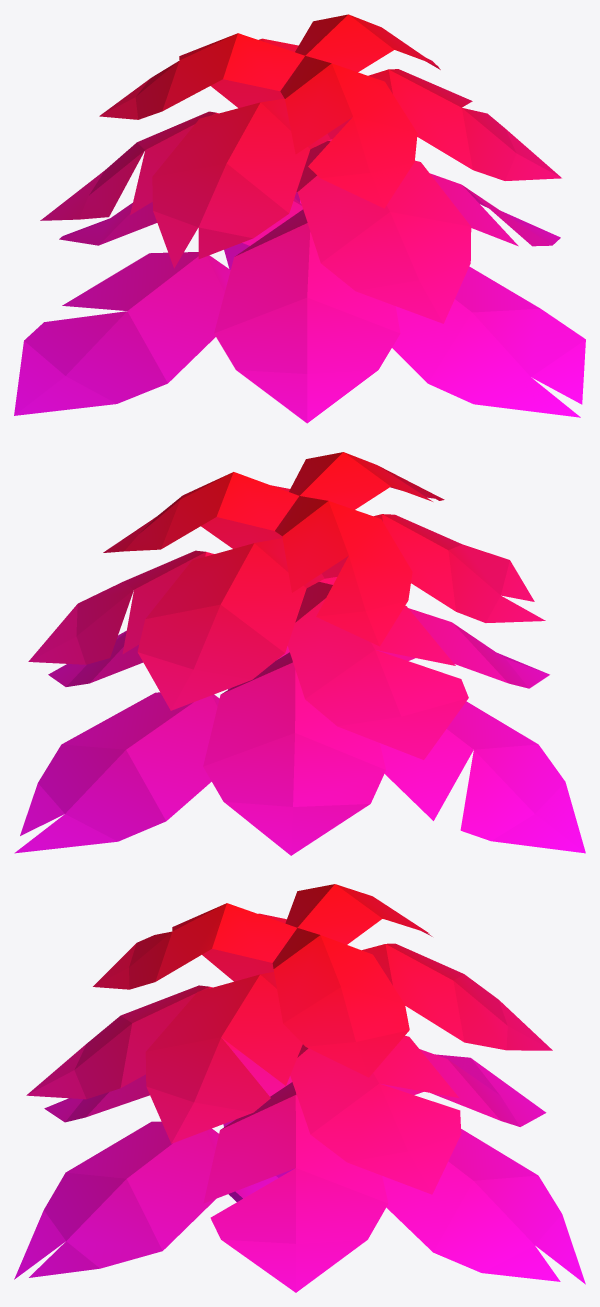
File: synty-plant-fern-02.gltf
The picture shows the model from 3 angles, top to bottom: view 1: azimuth 30°, elevation 25°; view 2: azimuth 150°, elevation 25°; view 3: azimuth 270°, elevation 25°; orthographic projection.
Visible parts, largest first — view 1: SM_Plant_Fern_02; view 2: SM_Plant_Fern_02; view 3: SM_Plant_Fern_02.
Boxes of the visible parts, x1,y1,x2,y2 form: SM_Plant_Fern_02: [14, 14, 585, 423]; SM_Plant_Fern_02: [14, 452, 585, 855]; SM_Plant_Fern_02: [14, 884, 585, 1292].
Size of the model in its own units: 1.15 by 0.6338 by 1.05.
1 material, 1 textured.
